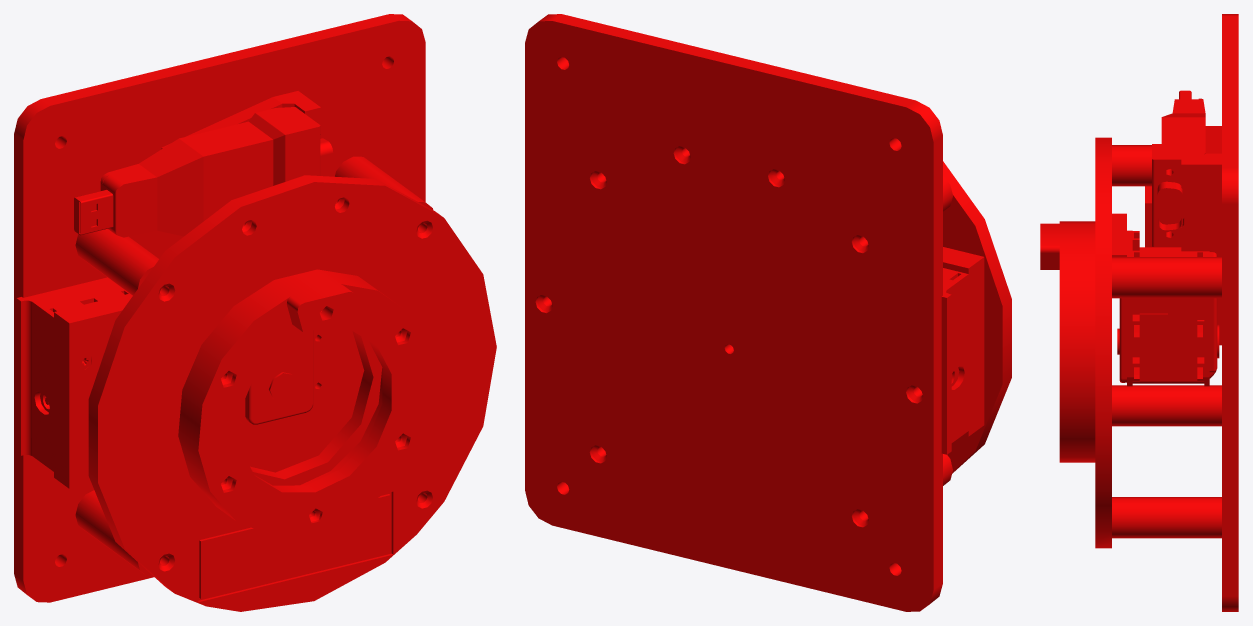
Rendered from gamma_base.dae.
3 views of the same model, side by side, from view 1: azimuth 30°, elevation 25°; view 2: azimuth 150°, elevation 25°; view 3: azimuth 270°, elevation 25° (orthographic). The views are drawn at different scales.
Visible parts, largest first — view 1: Gamma_base; view 2: Gamma_base; view 3: Gamma_base.
Part boxes in pixels (box(x1,y1,x2,y2)): Gamma_base: box(14, 14, 496, 611); Gamma_base: box(525, 14, 1011, 611); Gamma_base: box(1040, 14, 1238, 611).
Size of the model in its own units: 0.152 by 0.177 by 0.072.
